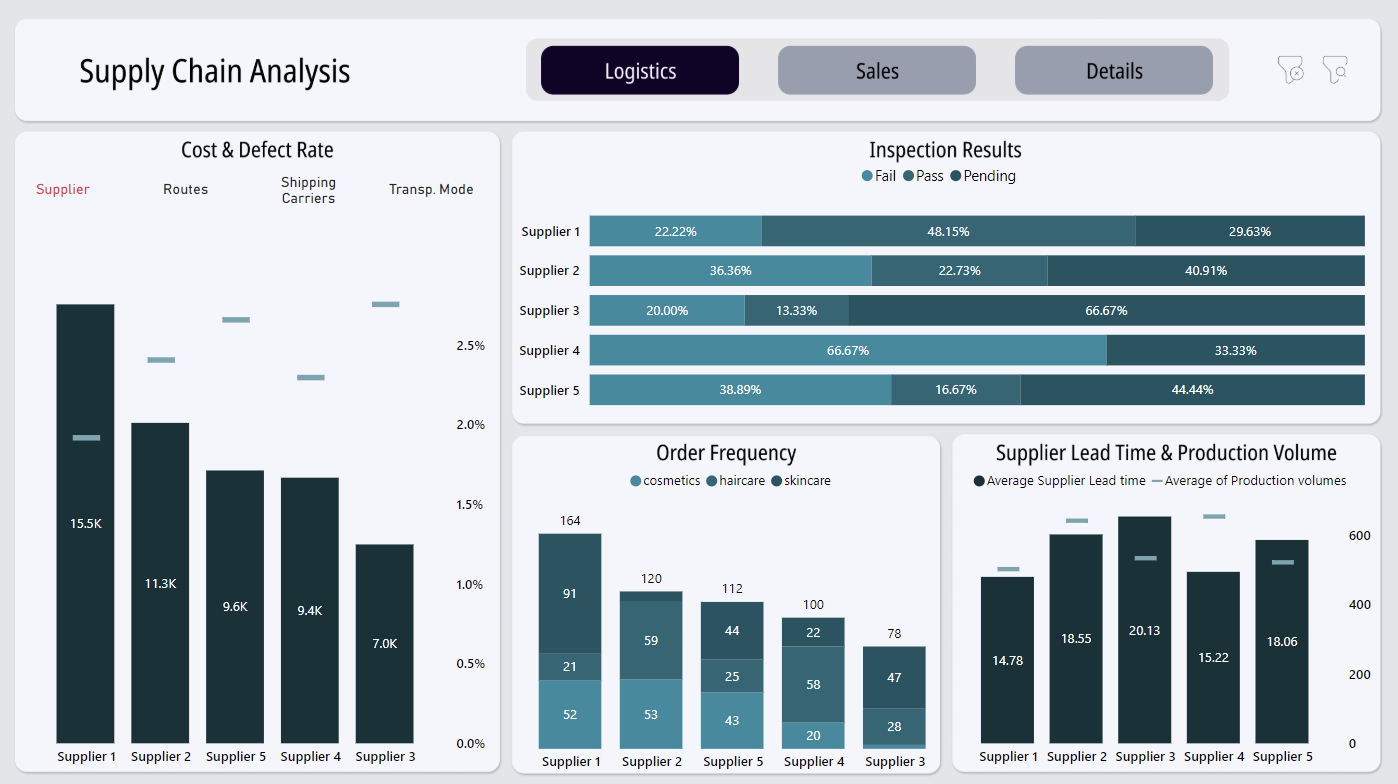

This screenshot's page, from the dashboard's own definition file:
{"tool":"powerbi","page":{"name":"Logistics","canvas":[1280,720],"ordinal":0},"visuals":[{"type":"image","box":[0,0,1279.7,720.5],"z":0},{"type":"lineStackedColumnComboChart","fields":{"Category":["supply_chain_data.Supplier name"],"Y2":["Avg(supply_chain_data.Production volumes)"],"Y":["Avg(supply_chain_data.Supplier Lead time)"]},"box":[868.1,411.6,391.5,295.2],"z":1000},{"type":"hundredPercentStackedBarChart","fields":{"Category":["supply_chain_data.Supplier name"],"Series":["supply_chain_data.Inspection results"],"Y":["CountNonNull(supply_chain_data.SKU)"]},"box":[475.3,142.6,773.1,250.2],"z":2000},{"type":"lineStackedColumnComboChart","fields":{"Category":["supply_chain_data.Supplier name"],"Y":["DAX-Measures.TotalCosts"],"Y2":["DAX-Measures.PercentageOfDefect"]},"box":[22.5,236.4,429.1,470.3],"z":3000},{"type":"advancedSlicerVisual","fields":{"Values":["Carrier, Route, Supplier & Transport.Carrier, Route, Supplier & Transport"]},"box":[0,116.3,460.3,103.8],"z":4000},{"type":"columnChart","fields":{"Category":["supply_chain_data.Supplier name"],"Y":["DAX-Measures.TimesShipped"],"Series":["supply_chain_data.Product type"]},"box":[460.3,411.6,424.1,300.2],"z":5000},{"type":"actionButton","box":[504.1,46.3,168.9,40],"z":6000},{"type":"actionButton","box":[936.9,46.3,168.9,40],"z":7000},{"type":"actionButton","box":[715.5,46.3,168.9,40],"z":8000},{"type":"actionButton","box":[1160.9,46.3,40,40],"z":9000},{"type":"actionButton","box":[1200.9,46.3,42.5,40],"z":10000}]}

Visuals, with their boxes in screenshot pixels (x1, y1, x2, y2), scaled from the page's 1280x720 canvas onto the 1398x784 screenshot:
image: <region>0, 0, 1397, 783</region>
lineStackedColumnComboChart - supply_chain_data.Supplier name x Avg(supply_chain_data.Production volumes): <region>948, 448, 1376, 770</region>
hundredPercentStackedBarChart - supply_chain_data.Supplier name x supply_chain_data.Inspection results: <region>519, 155, 1363, 428</region>
lineStackedColumnComboChart - supply_chain_data.Supplier name x DAX-Measures.TotalCosts: <region>25, 257, 493, 770</region>
advancedSlicerVisual - Carrier, Route, Supplier & Transport.Carrier, Route, Supplier & Transport: <region>0, 127, 503, 240</region>
columnChart - supply_chain_data.Supplier name x DAX-Measures.TimesShipped: <region>503, 448, 966, 775</region>
actionButton: <region>551, 50, 735, 94</region>
actionButton: <region>1023, 50, 1208, 94</region>
actionButton: <region>781, 50, 966, 94</region>
actionButton: <region>1268, 50, 1312, 94</region>
actionButton: <region>1312, 50, 1358, 94</region>
